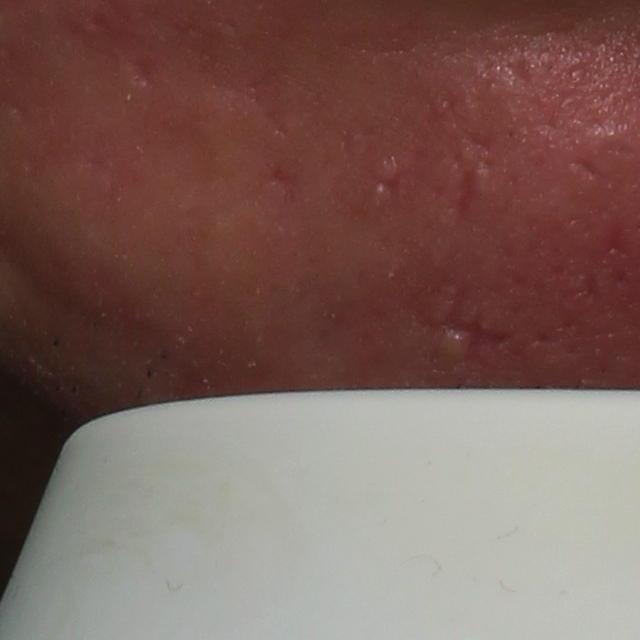atrophic_scar: (411, 269, 517, 367), (118, 53, 166, 94), (452, 159, 477, 223)
hypertrophic_scar: (435, 330, 475, 366), (469, 161, 498, 198), (368, 154, 399, 182)
